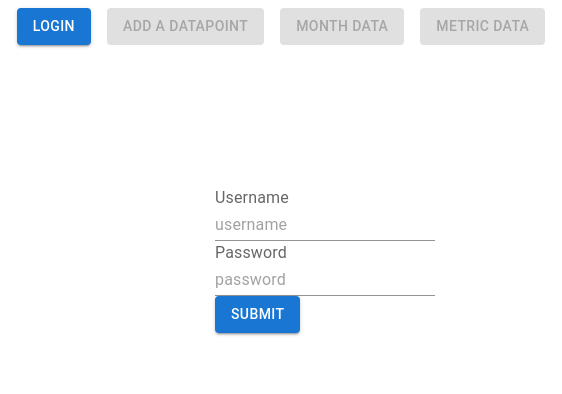
Login › Login fails with incorrect credintials
In the field with id "username": (325,225) [215,209,435,241], type "incorrect"
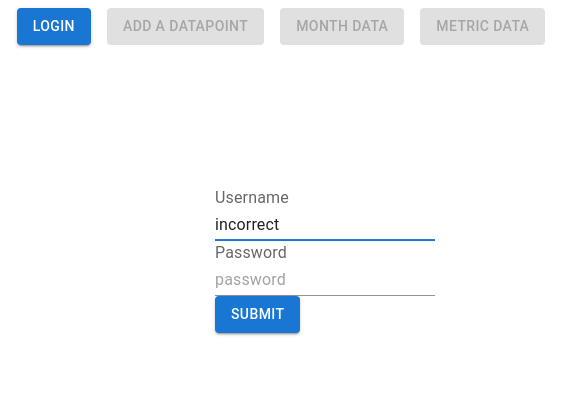
In the field labelled "Password": (325,280) [215,264,435,296], type "incorrect"
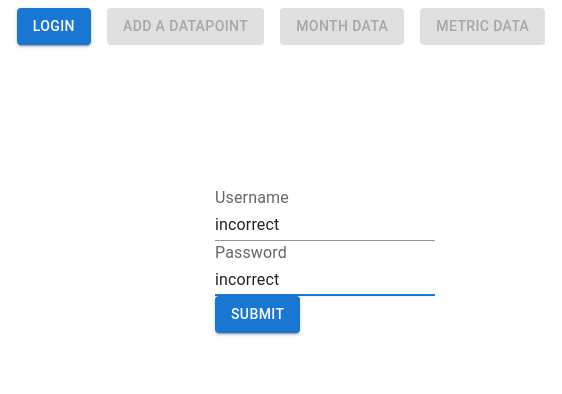
Click the button with id "submit": (258,315) [215,296,300,333]
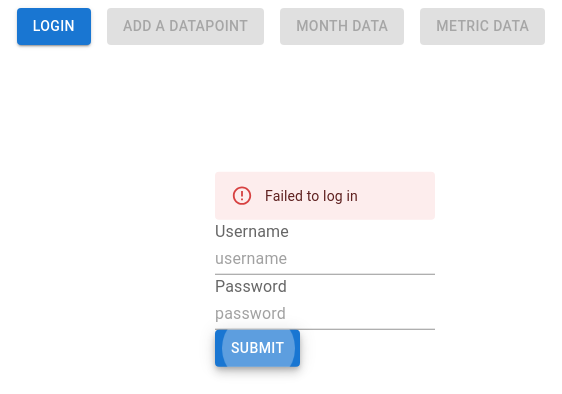
Result: the text "Failed to log in" is shown at [265,188,358,204]
